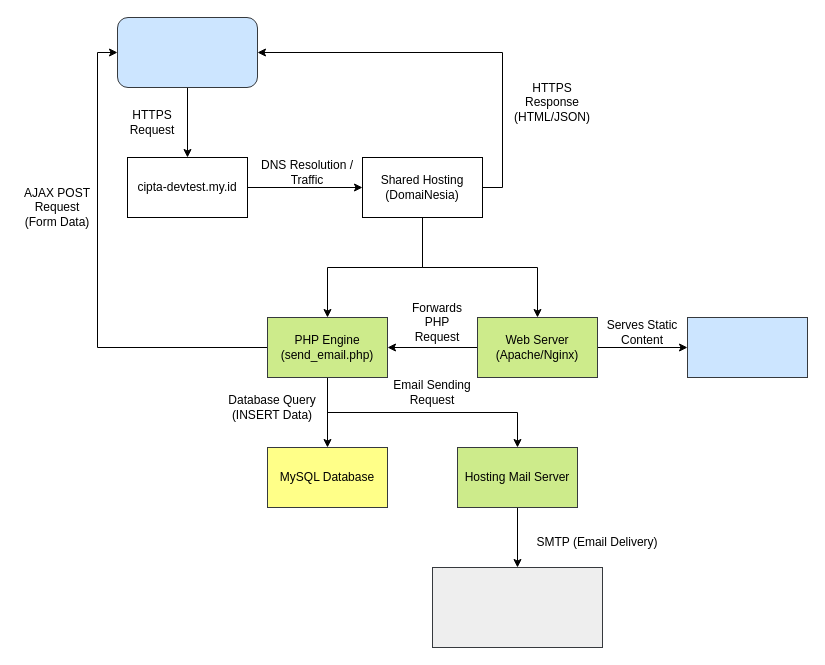
The diagram is 825 pixels wide and 665 high, and some of its shapes have lost their labels. Each missing label, with the box of its shape:
Email Tujuan (mbclab1234@gmail.com): (432, 566, 602, 648)
HTML Files: (686, 316, 808, 378)
User / Client Browser: (116, 16, 258, 88)
